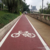others: (1, 11, 50, 50)
